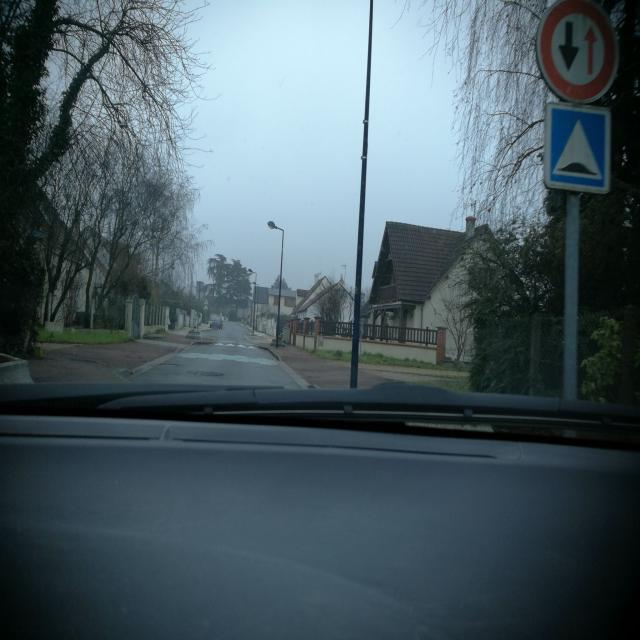car: (209, 314, 223, 330)
